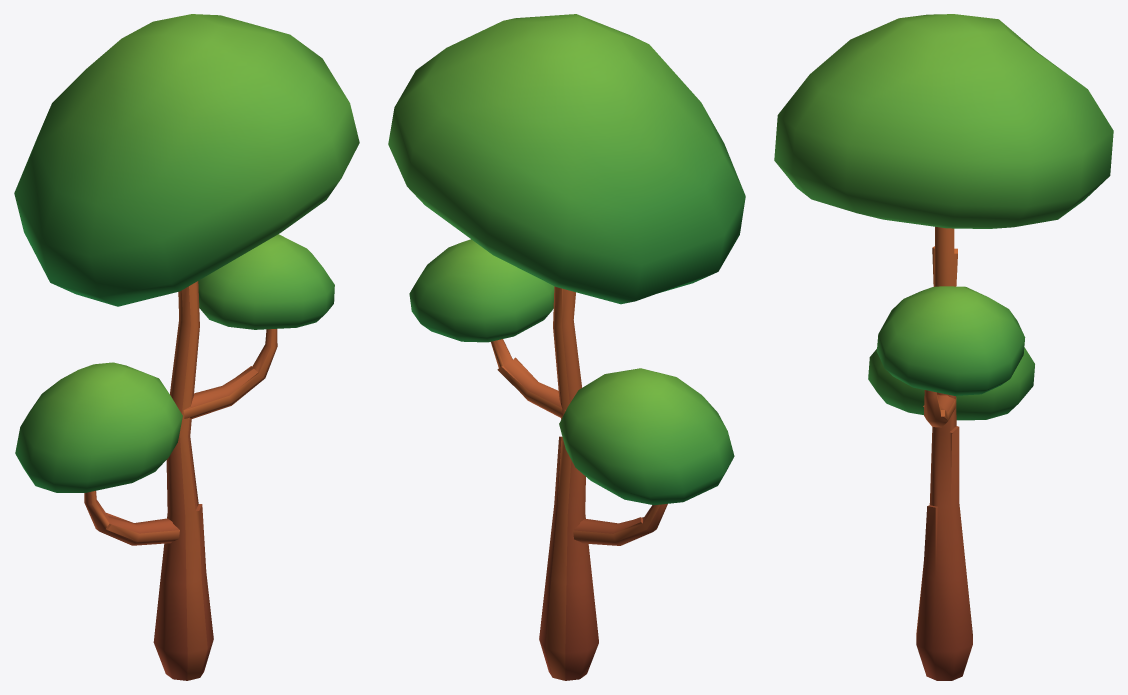
File: Tree_7_B_Color1.gltf
The picture shows the model from 3 angles, left to right: view 1: azimuth 30°, elevation 25°; view 2: azimuth 150°, elevation 25°; view 3: azimuth 270°, elevation 25°; orthographic projection. The views are drawn at different scales.
Parts seen in each view (by area): view 1: Tree_7_B_Color1; view 2: Tree_7_B_Color1; view 3: Tree_7_B_Color1.
Boxes of the visible parts, x1,y1,x2,y2 form: Tree_7_B_Color1: (14, 14, 359, 680); Tree_7_B_Color1: (388, 14, 745, 680); Tree_7_B_Color1: (774, 14, 1113, 680).
Size of the model in its own units: 3.53 by 7.06 by 3.29.
Materials: 1 (1 with a texture image).
